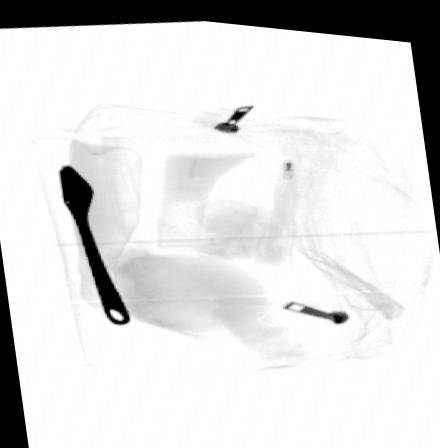Wrench: (57, 162, 132, 324)
